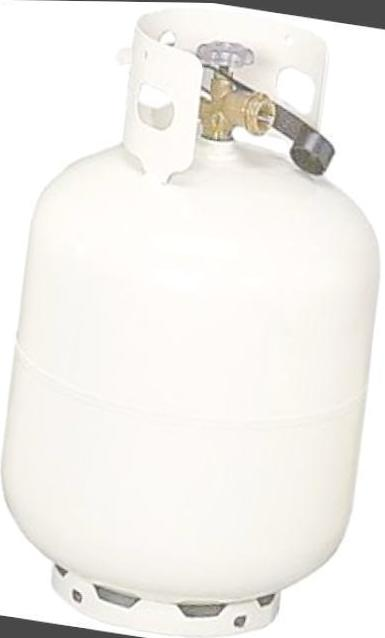cylinder: (1, 1, 385, 638)
